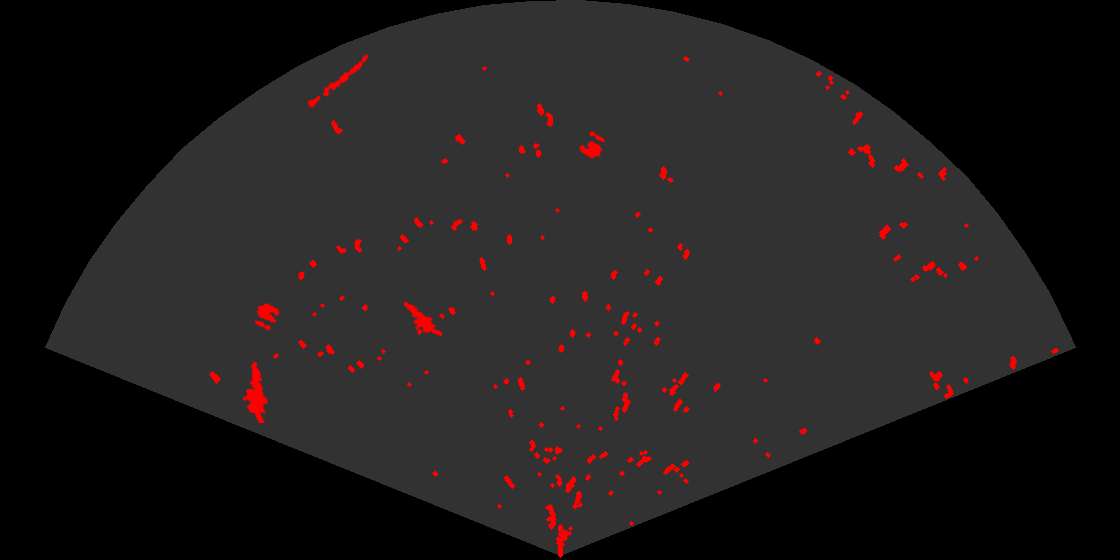ball: (253, 301, 282, 332), (578, 130, 607, 160)
chain: (301, 53, 370, 115)
frogman: (394, 299, 442, 338), (241, 360, 270, 423)
